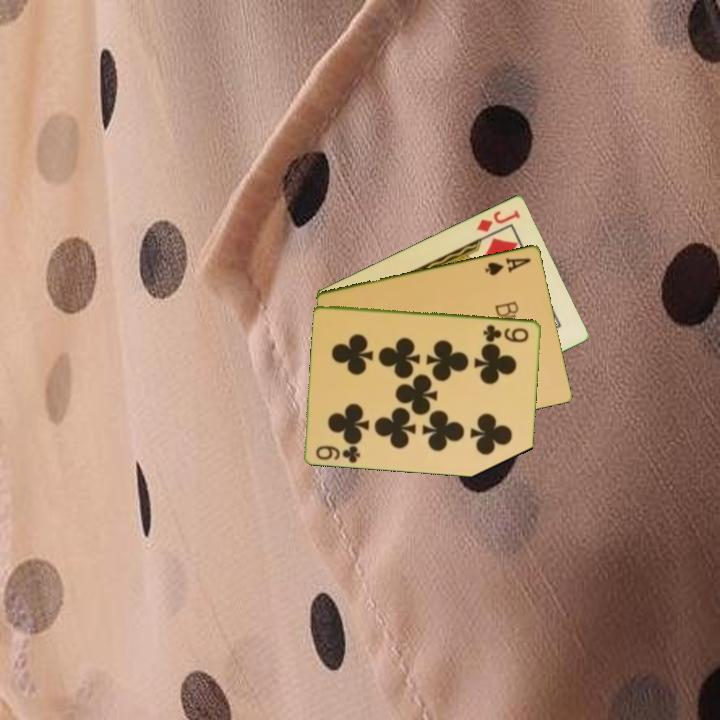9c: (480, 321, 532, 344), (313, 442, 364, 465)
As: (482, 254, 534, 278)
Jd: (473, 206, 523, 235)
